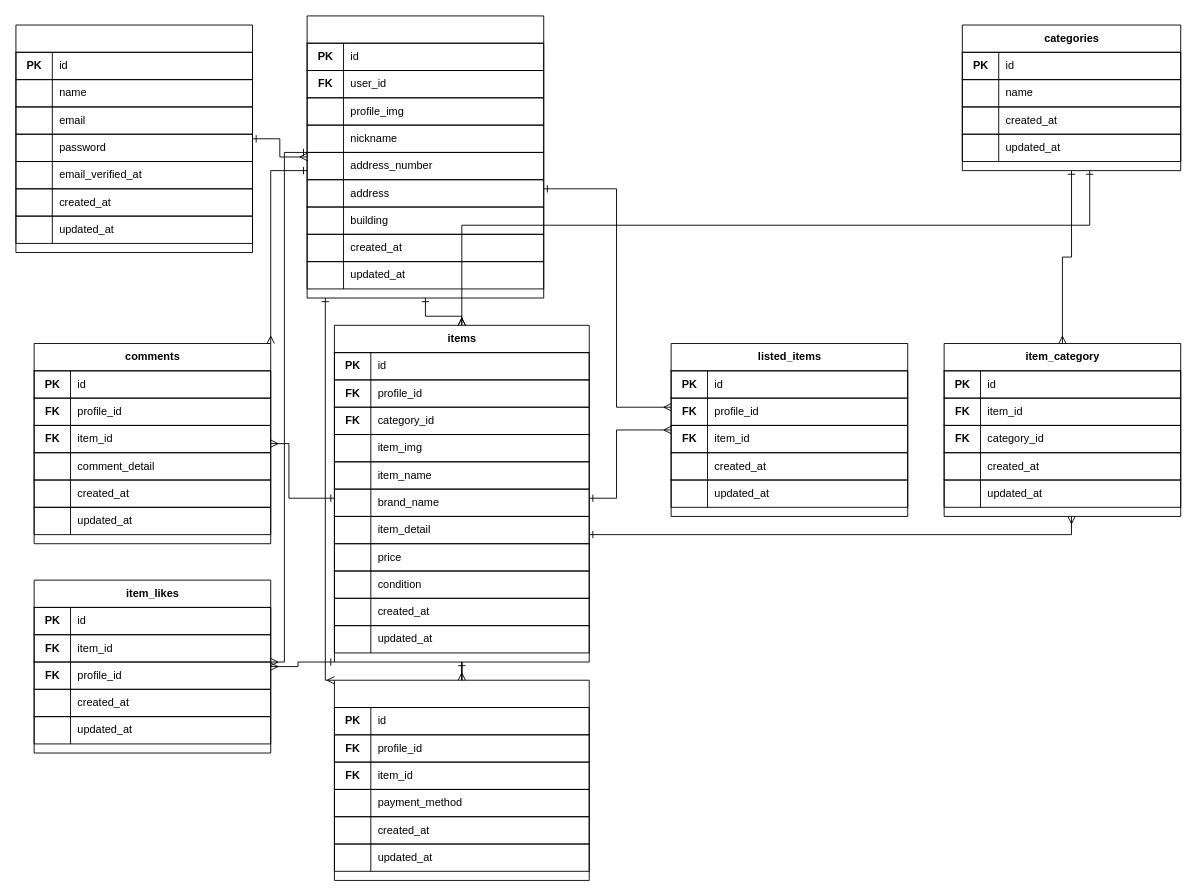
Image size: 1197x896. Some labels were removed from this diagram. Each missing label, with the box of its shape:
profiles: (306, 15, 544, 298)
purchased_items: (334, 679, 589, 880)
users: (15, 24, 253, 253)
